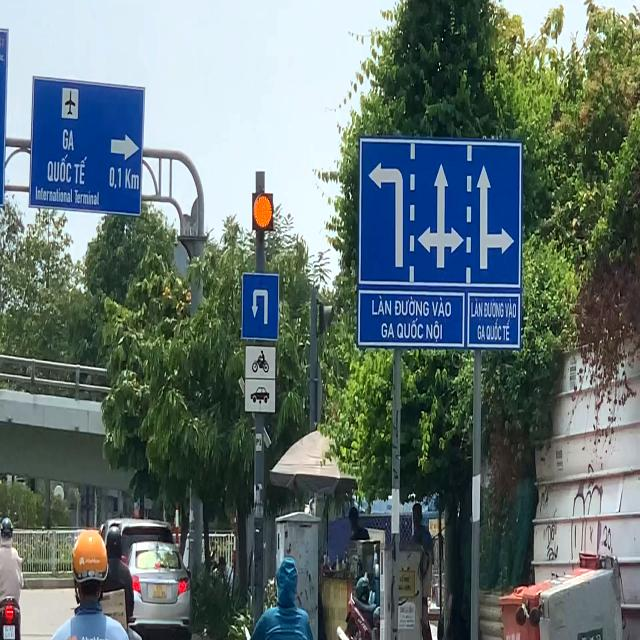R.409: (242, 270, 281, 338)
